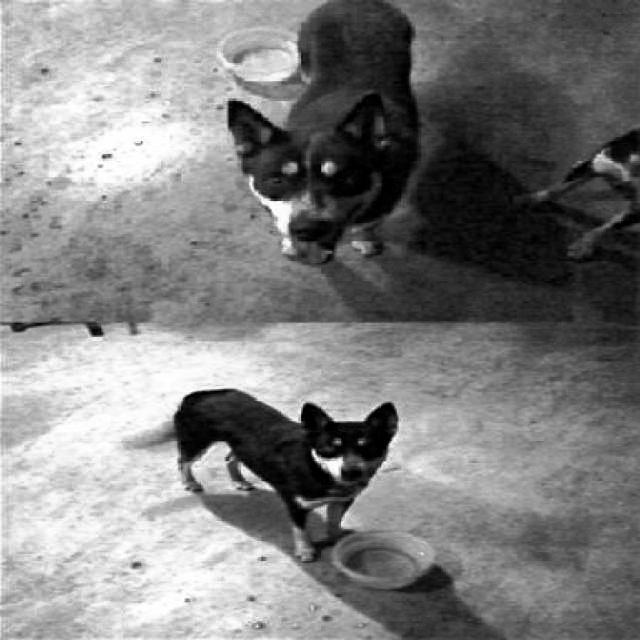Dog: (221, 0, 424, 278), (125, 374, 410, 571)
